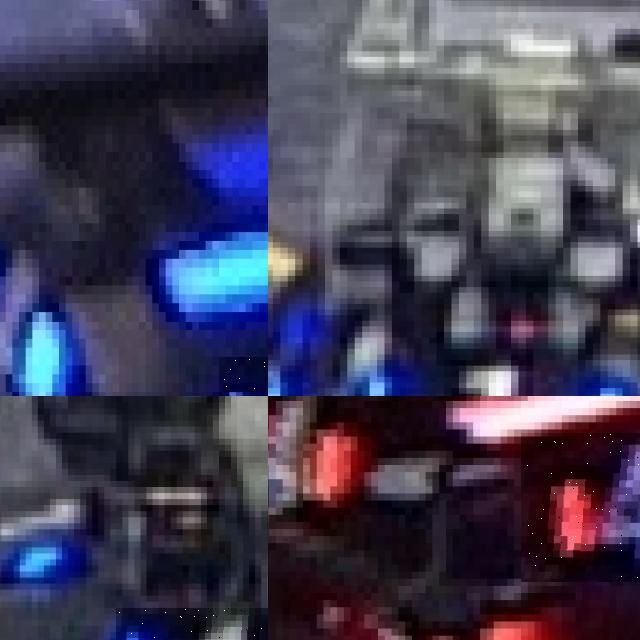B1: (343, 346, 633, 396), (116, 607, 268, 640)
R4: (520, 432, 640, 582), (268, 396, 347, 518)
